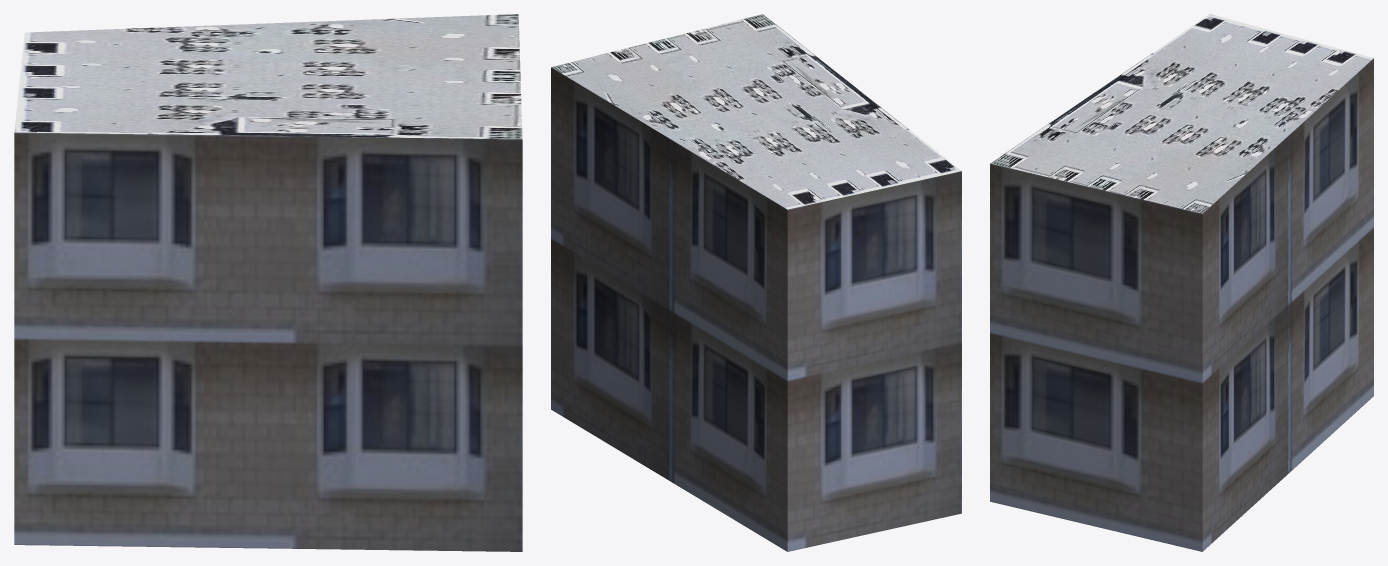
File: ResTex__5189.fbx
3 views of the same model, side by side, from view 1: azimuth 30°, elevation 25°; view 2: azimuth 150°, elevation 25°; view 3: azimuth 270°, elevation 25° (orthographic). The views are drawn at different scales.
Parts seen in each view (by area): view 1: CityEngineMaterial_3_m, CityEngineMaterial_m; view 2: CityEngineMaterial_3_m, CityEngineMaterial_m; view 3: CityEngineMaterial_3_m, CityEngineMaterial_m.
Part boxes in pixels (x1=…): CityEngineMaterial_3_m: x1=14, y1=132, x2=522, y2=551; CityEngineMaterial_m: x1=14, y1=14, x2=522, y2=139; CityEngineMaterial_3_m: x1=551, y1=67, x2=961, y2=551; CityEngineMaterial_m: x1=551, y1=14, x2=961, y2=209; CityEngineMaterial_3_m: x1=990, y1=58, x2=1373, y2=551; CityEngineMaterial_m: x1=990, y1=14, x2=1373, y2=213.
Bounding box in the file's own units: 7.61 × 6 × 6.17.
Materials: 2 (2 with a texture image).
